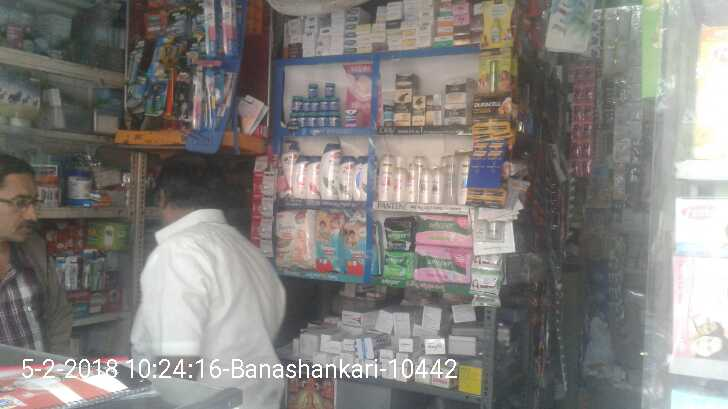beauty: (320, 144, 337, 200), (280, 142, 296, 200), (376, 150, 393, 200), (442, 78, 467, 105), (338, 152, 352, 200), (305, 155, 321, 196), (393, 75, 411, 108), (442, 104, 466, 128), (406, 157, 417, 202), (432, 165, 444, 204), (394, 166, 406, 202), (411, 92, 423, 126), (421, 167, 432, 202), (391, 110, 411, 128)
pharmacy: (274, 208, 313, 268), (311, 209, 345, 276), (413, 247, 471, 285), (412, 214, 473, 247), (342, 210, 370, 273), (382, 216, 413, 251), (377, 250, 413, 278), (292, 95, 338, 111), (341, 107, 359, 131), (324, 81, 335, 97), (306, 114, 318, 128), (298, 113, 307, 131), (329, 113, 338, 128), (307, 84, 316, 97), (318, 115, 327, 127)
